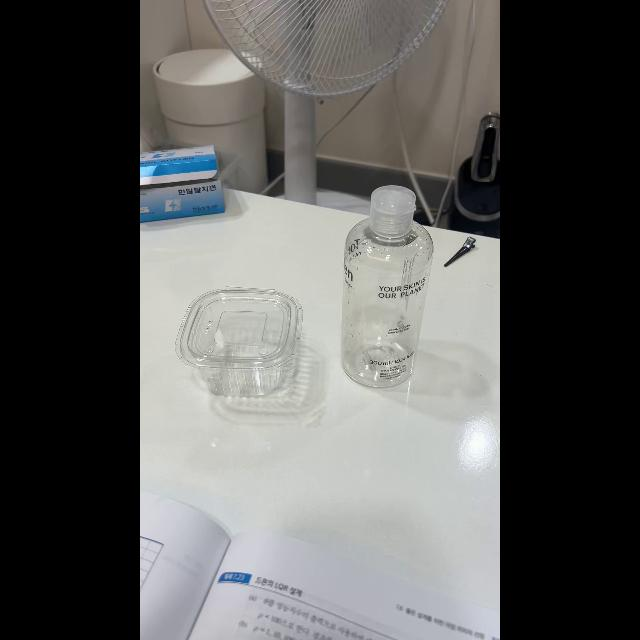clean: (340, 190, 434, 388), (176, 286, 304, 396)
